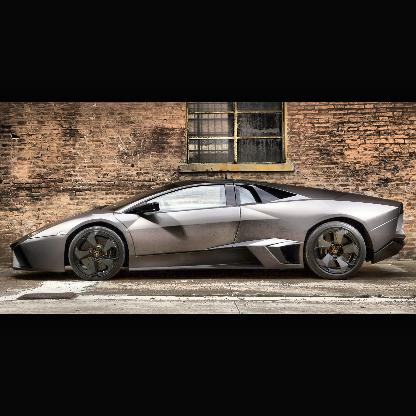Lamborghini Reventon Coupe 2008: (11, 178, 405, 280)
